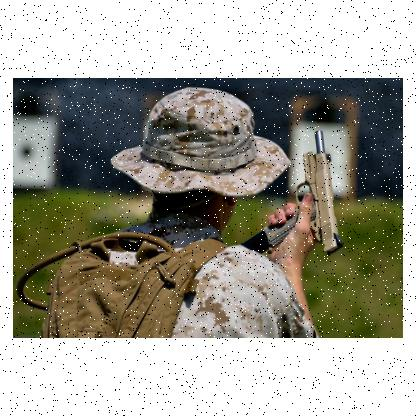gun: (251, 122, 339, 262)
